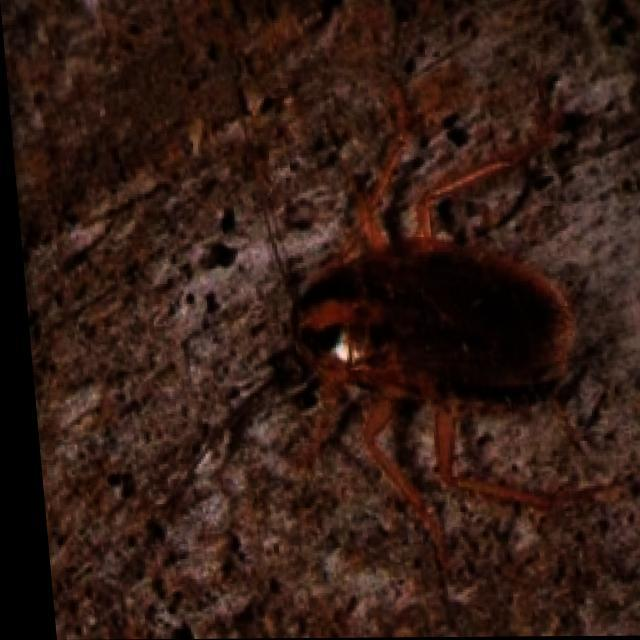cockroach: (233, 204, 605, 478)
